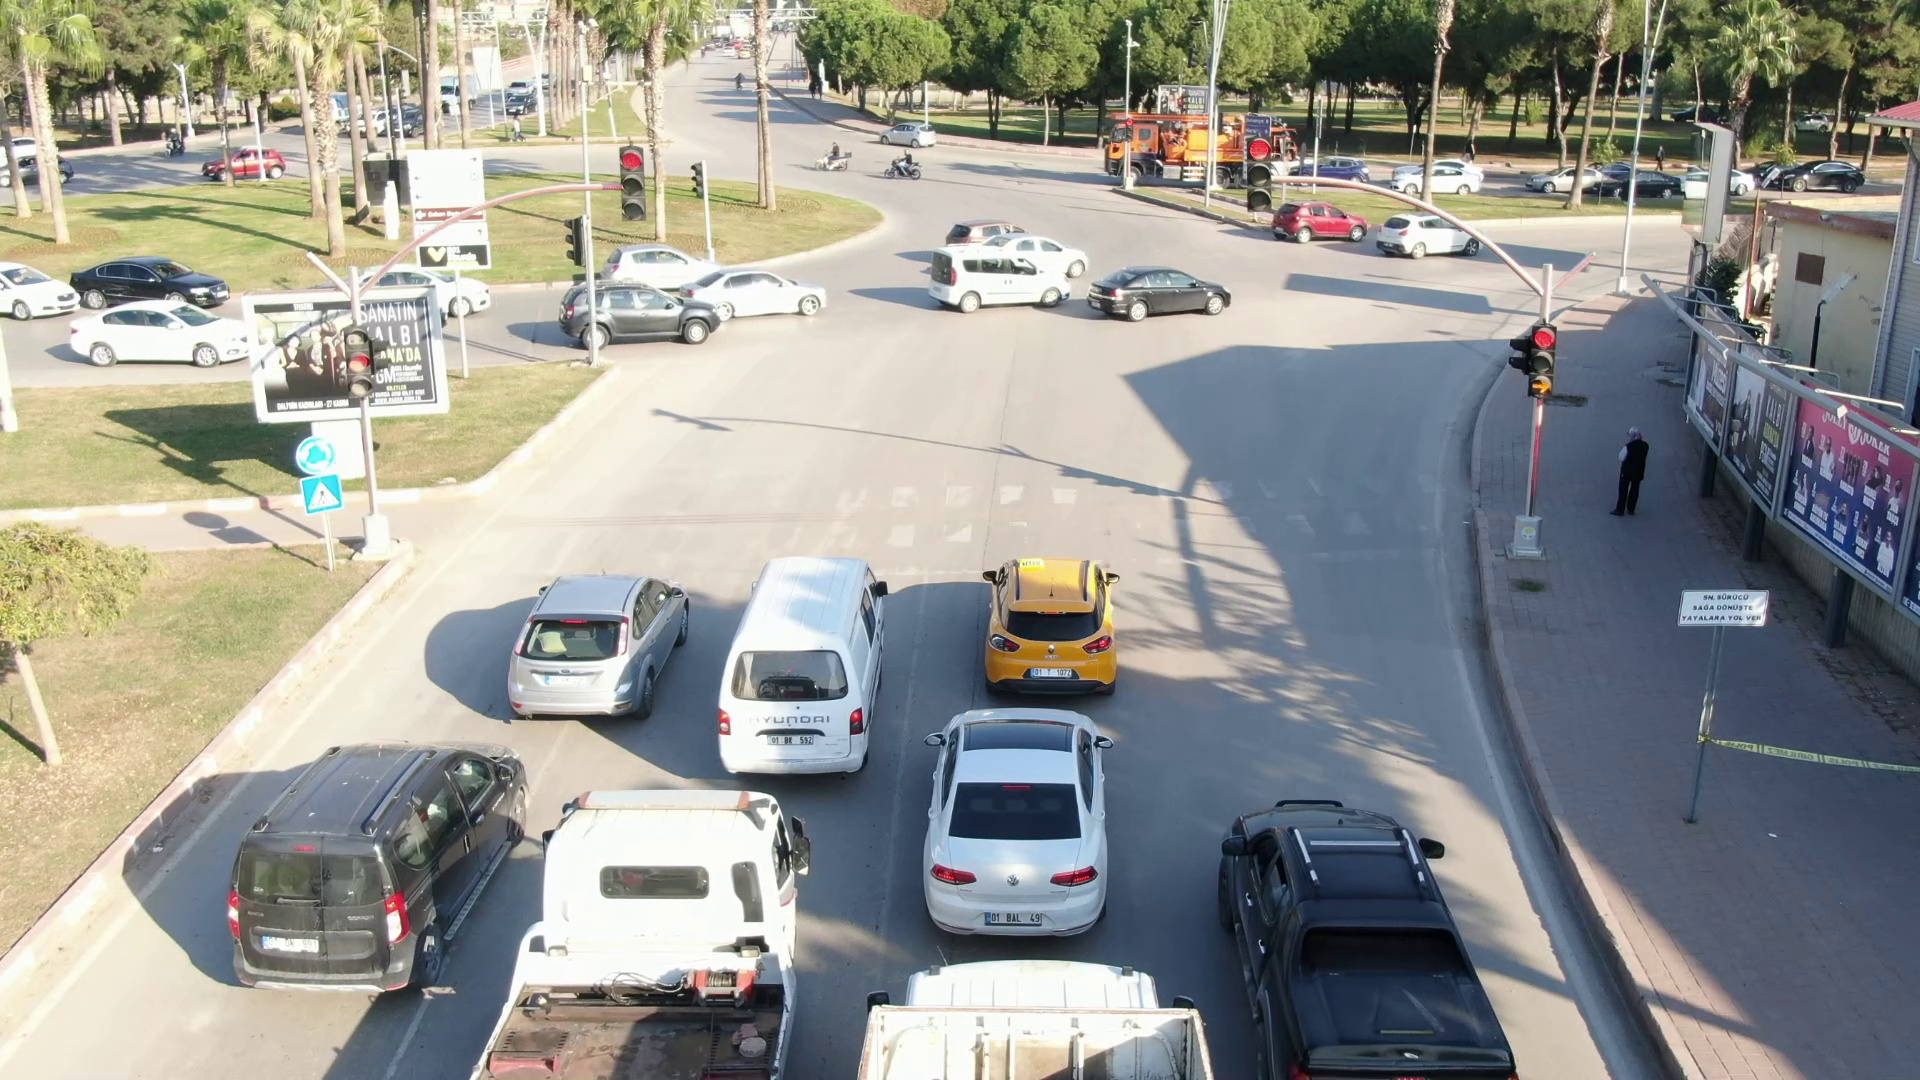car: (225, 736, 534, 992), (920, 704, 1112, 945), (716, 556, 893, 779), (500, 564, 688, 723), (978, 554, 1124, 700), (62, 294, 248, 371), (558, 278, 723, 355), (69, 253, 240, 315), (924, 244, 1068, 314), (686, 261, 835, 323), (1083, 264, 1236, 319), (1375, 211, 1486, 258), (1273, 199, 1370, 243), (1779, 158, 1873, 196), (1602, 164, 1688, 204), (200, 144, 287, 183), (1390, 164, 1489, 196), (1523, 164, 1607, 196), (877, 115, 938, 154)
